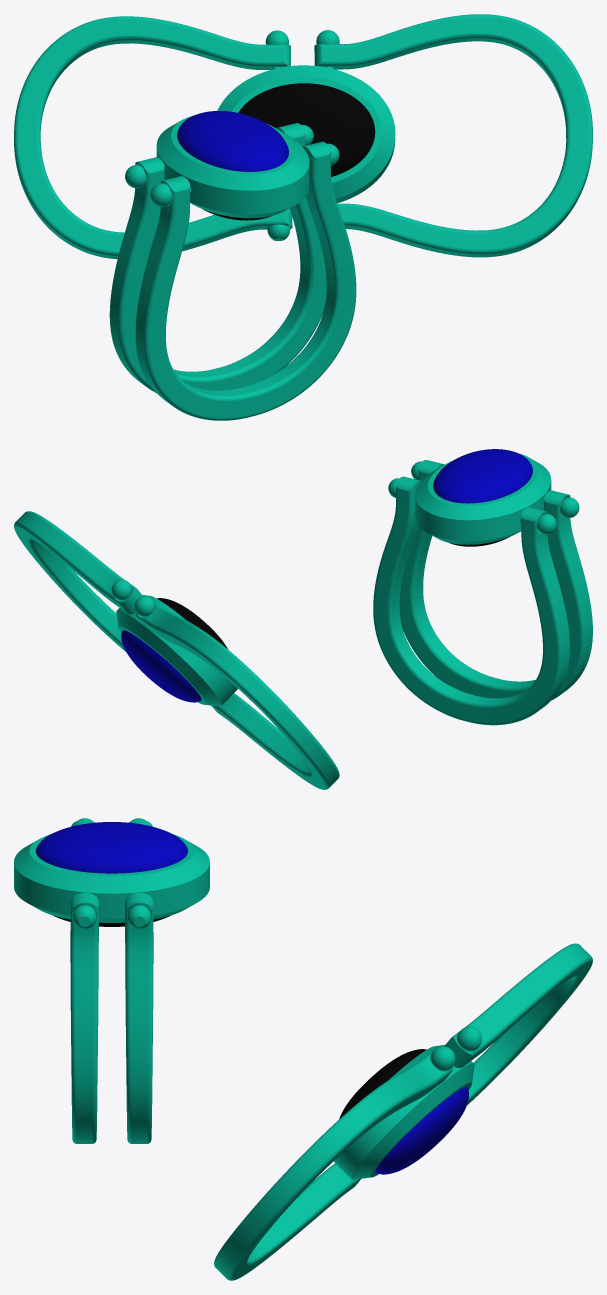
The picture shows the model from 3 angles, top to bottom: view 1: azimuth 30°, elevation 25°; view 2: azimuth 150°, elevation 25°; view 3: azimuth 270°, elevation 25°; orthographic projection. The views are drawn at different scales.
Parts seen in each view (by area): view 1: per il memev2.3dm, Cabochon_Oval (×2); view 2: per il memev2.3dm, Cabochon_Oval (×3); view 3: per il memev2.3dm, Cabochon_Oval (×3).
Boxes of the visible parts, <box> form: per il memev2.3dm: <box>14,14,592,420</box>; Cabochon_Oval (×2): <box>177,83,375,176</box>; per il memev2.3dm: <box>14,454,592,789</box>; Cabochon_Oval (×3): <box>121,449,532,702</box>; per il memev2.3dm: <box>14,818,592,1280</box>; Cabochon_Oval (×3): <box>35,822,468,1174</box>.
Bounding box in the file's own units: 2.83 × 1.39 × 2.46.
